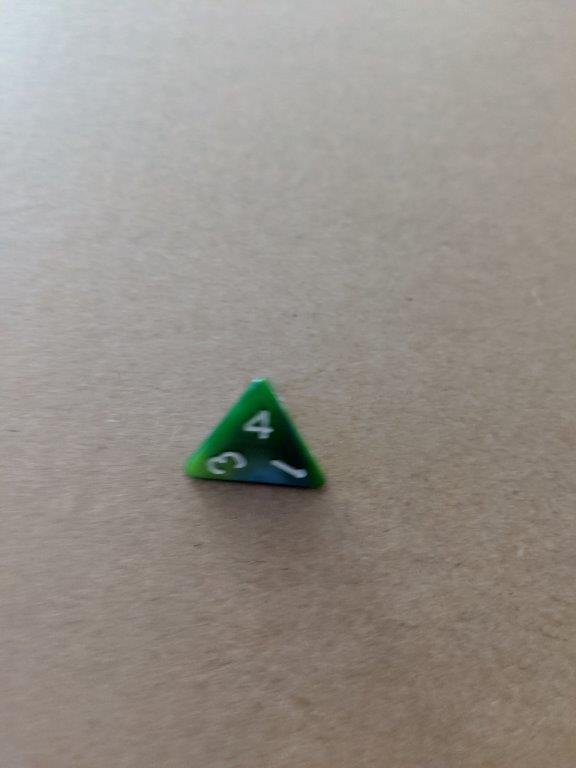d4-4: (178, 375, 331, 499)
